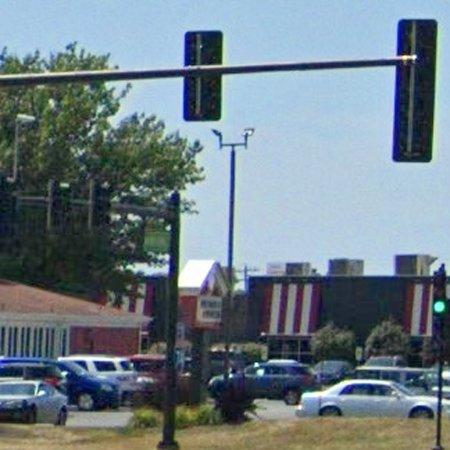traffic lights: (394, 19, 439, 162)
